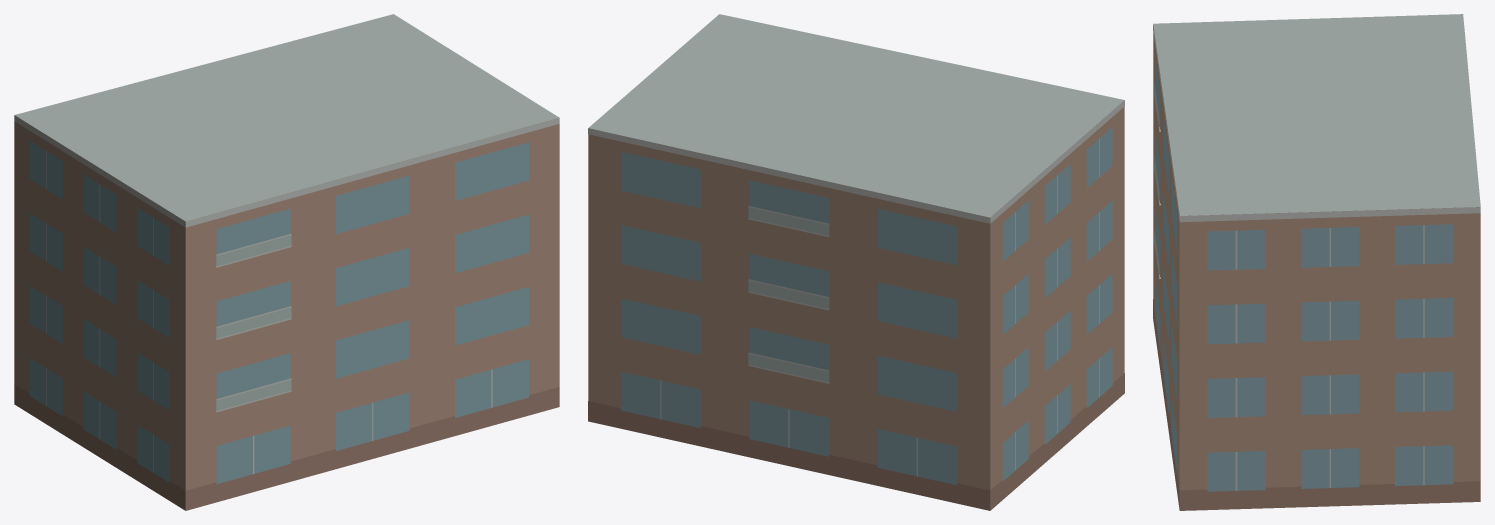
The model's file is survey-upis-33016325.glb.
3 views of the same model, side by side, from view 1: azimuth 30°, elevation 25°; view 2: azimuth 150°, elevation 25°; view 3: azimuth 270°, elevation 25° (orthographic).
Visible parts, largest first — view 1: survey-upis-33016325.tmp; view 2: survey-upis-33016325.tmp; view 3: survey-upis-33016325.tmp.
Part boxes in pixels (<box>): survey-upis-33016325.tmp: <box>14,14,559,510</box>; survey-upis-33016325.tmp: <box>588,14,1124,510</box>; survey-upis-33016325.tmp: <box>1153,14,1480,510</box>.
Size of the model in its own units: 17.05 by 11.6 by 11.69.
